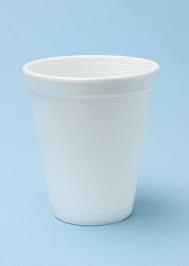Plastic cup: (8, 5, 177, 266)
